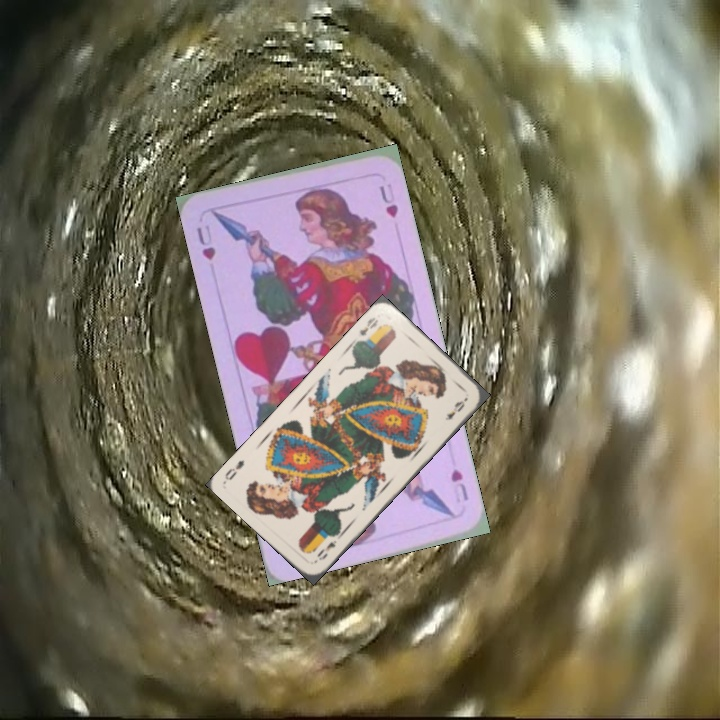EO: (313, 536, 339, 563), (355, 313, 381, 338)
HU: (193, 221, 218, 263), (447, 464, 471, 506)
